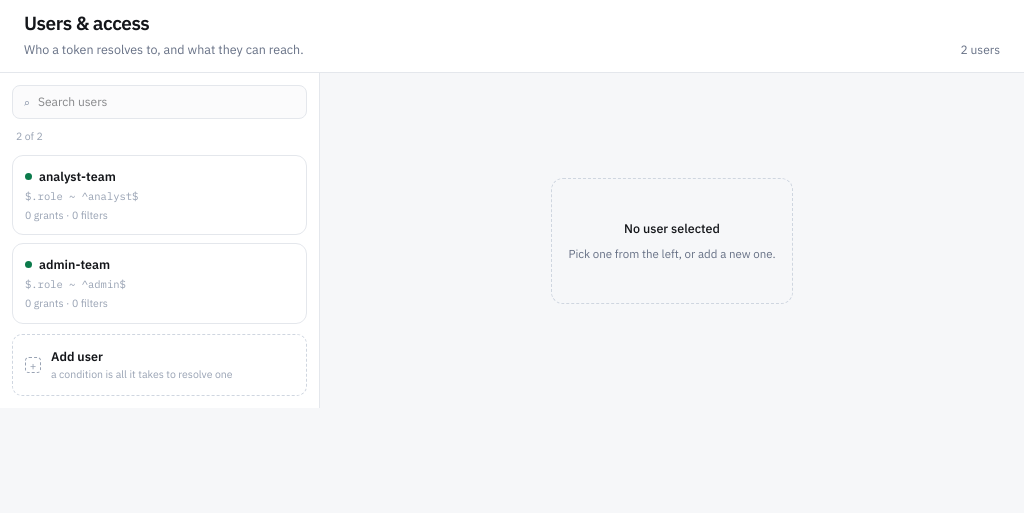
Test: UsersScreen › adding a new user end to end creates a real access policy and selects it
The image size is (1024, 513).
Click the button "+ Add user a condition is all it takes to resolve one" at (160, 365), box [12,334,307,396]
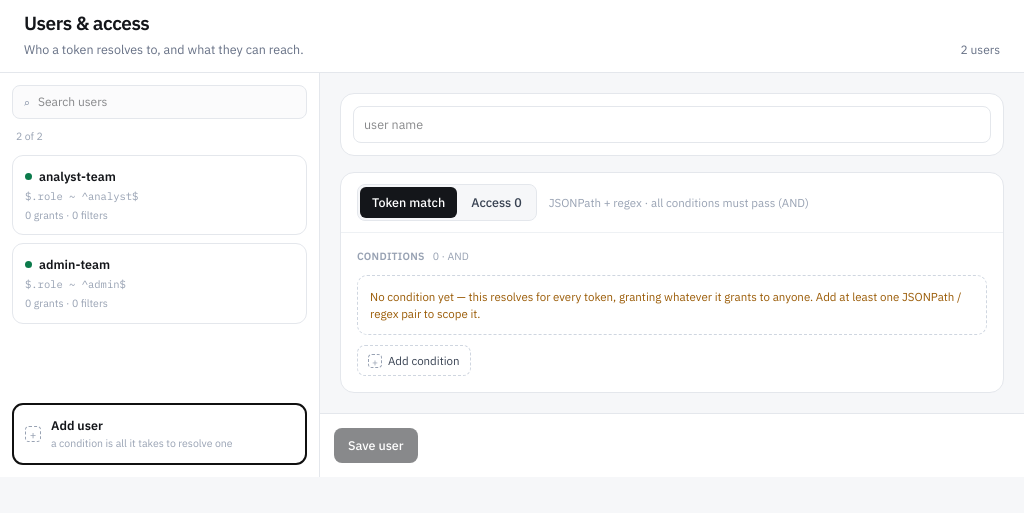
Type "readonly-team" into the field with placeholder "user name" at (672, 125), box [353,106,991,143]
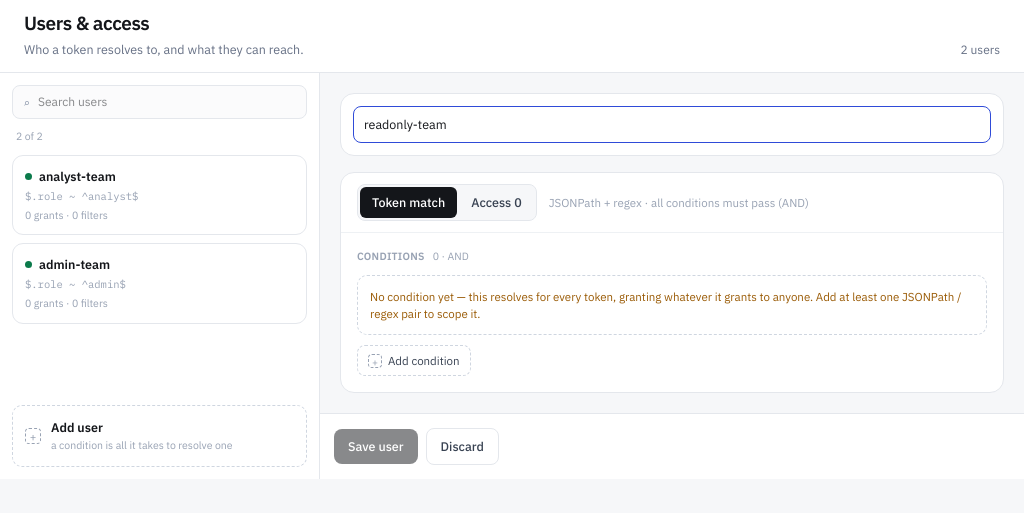
Click the button "+ Add condition" at (414, 361), box [357,345,470,376]
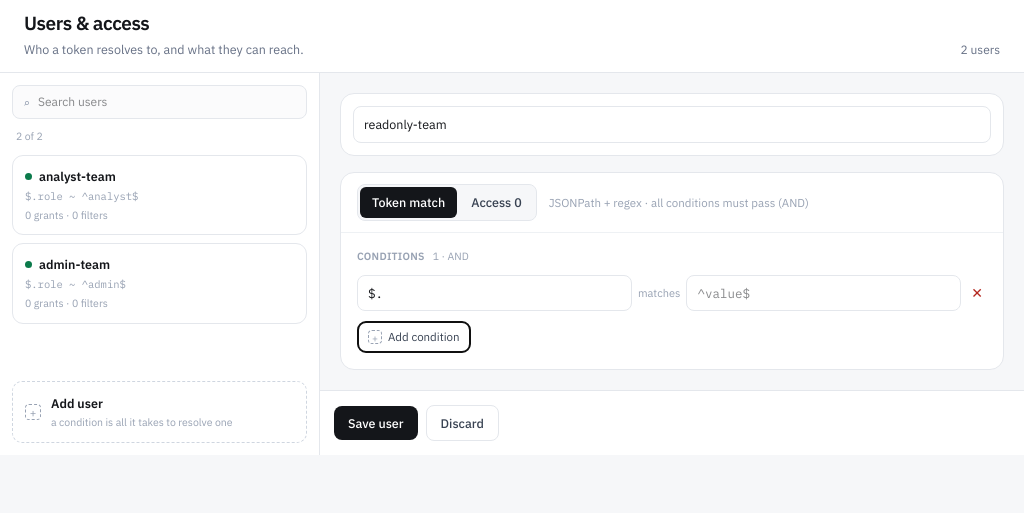
Replace the text in the field named "Condition 1 path" with "$.role" at (494, 293), box [357,274,632,311]
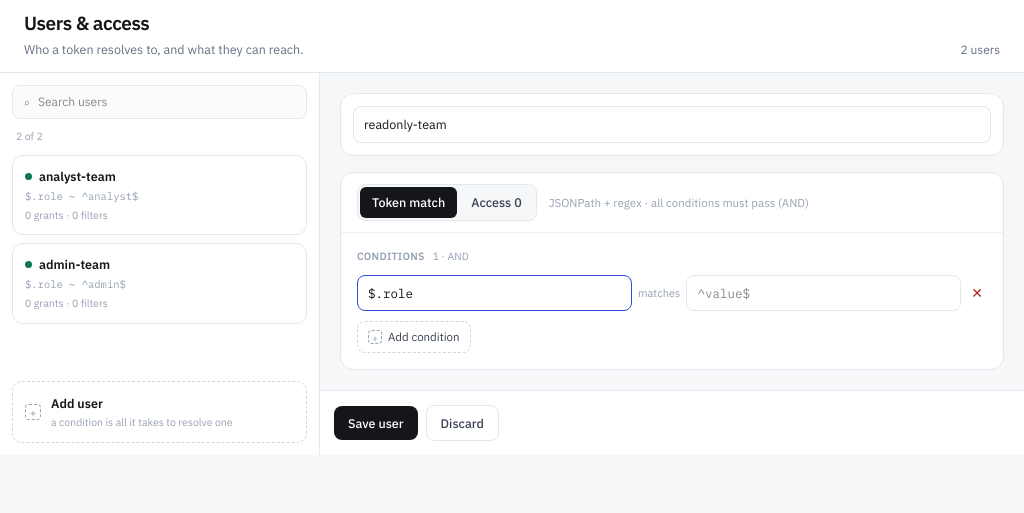
Type "^viewer$" into the field named "Condition 1 regex" at (824, 293), box [686,274,961,311]
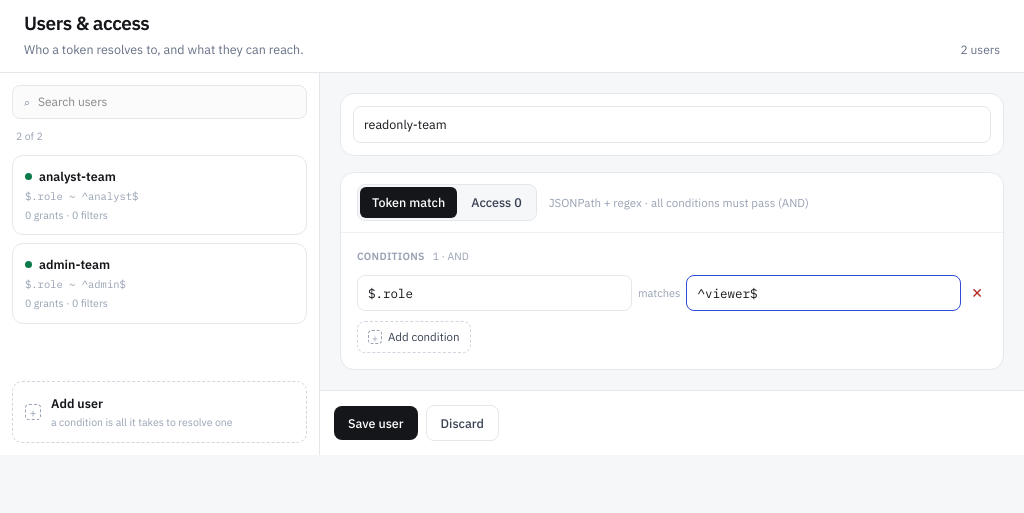
Click the button "Save user" at (376, 423), box [334,406,418,440]
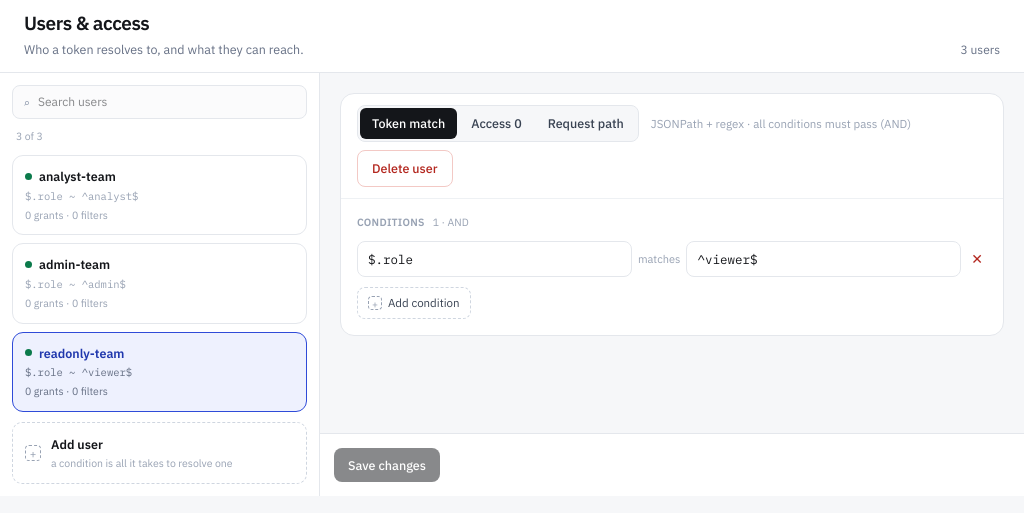
Expected: the button "Delete user" is shown, [357,150,452,187]
